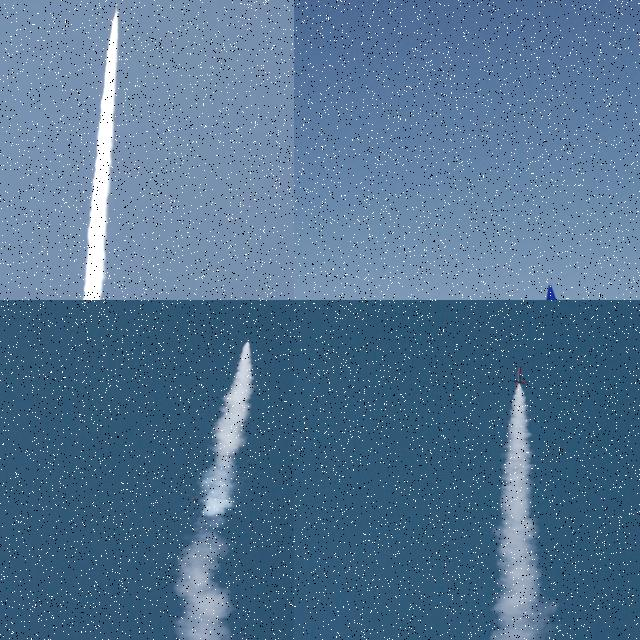Rocket: (512, 366, 530, 388), (244, 338, 251, 343), (115, 4, 118, 12)
